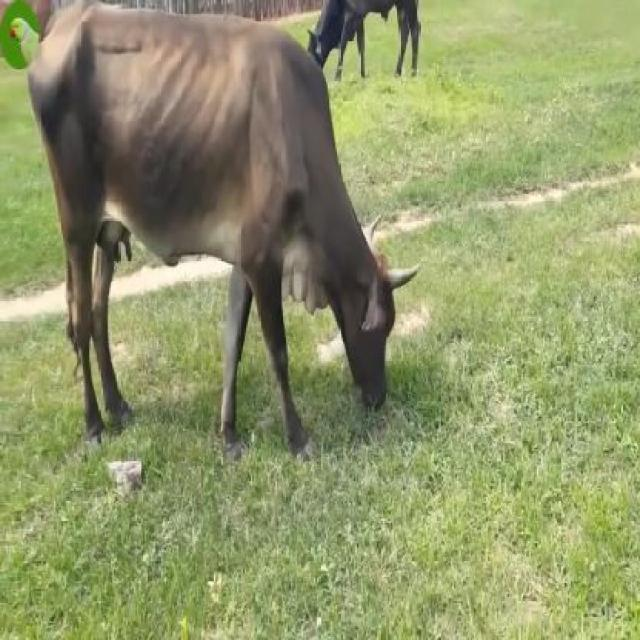Cow: (29, 3, 411, 445)
